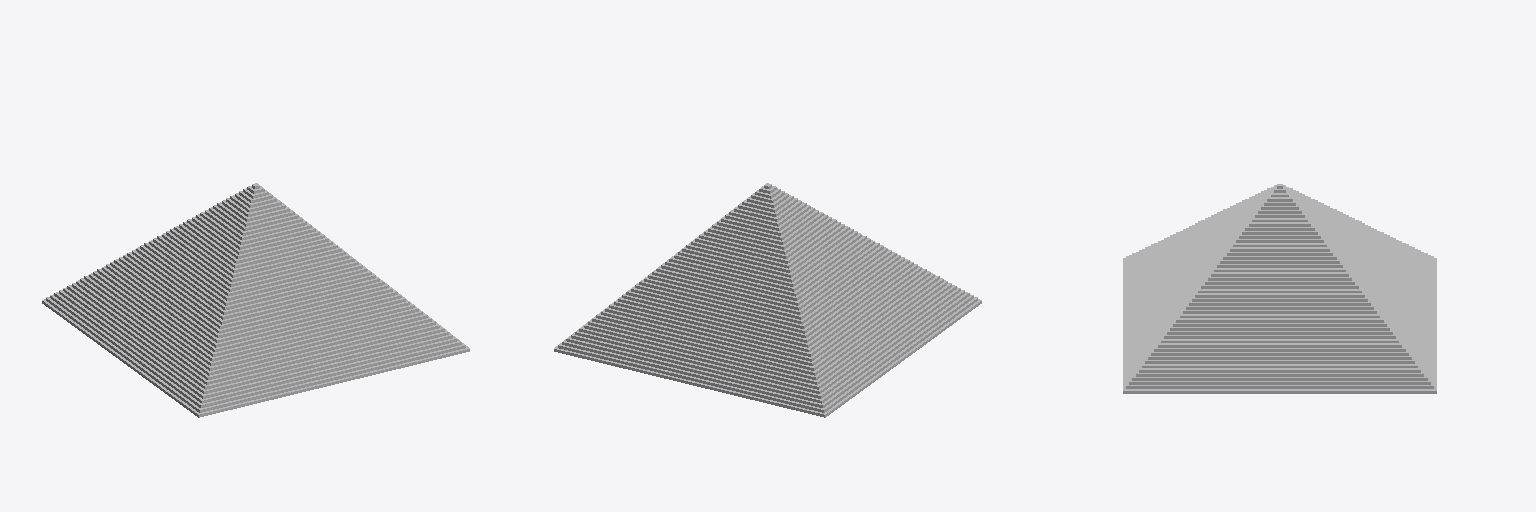
File: roof.obj
3 views of the same model, side by side, from view 1: azimuth 30°, elevation 25°; view 2: azimuth 150°, elevation 25°; view 3: azimuth 270°, elevation 25° (orthographic).
Parts seen in each view (by area): view 1: object 1; view 2: object 1; view 3: object 1.
Part boxes in pixels (left/top/right/bottom): object 1: left=42, top=183, right=469, bottom=417; object 1: left=554, top=183, right=981, bottom=417; object 1: left=1123, top=184, right=1436, bottom=393.
Size of the model in its own units: 10 by 5 by 10.